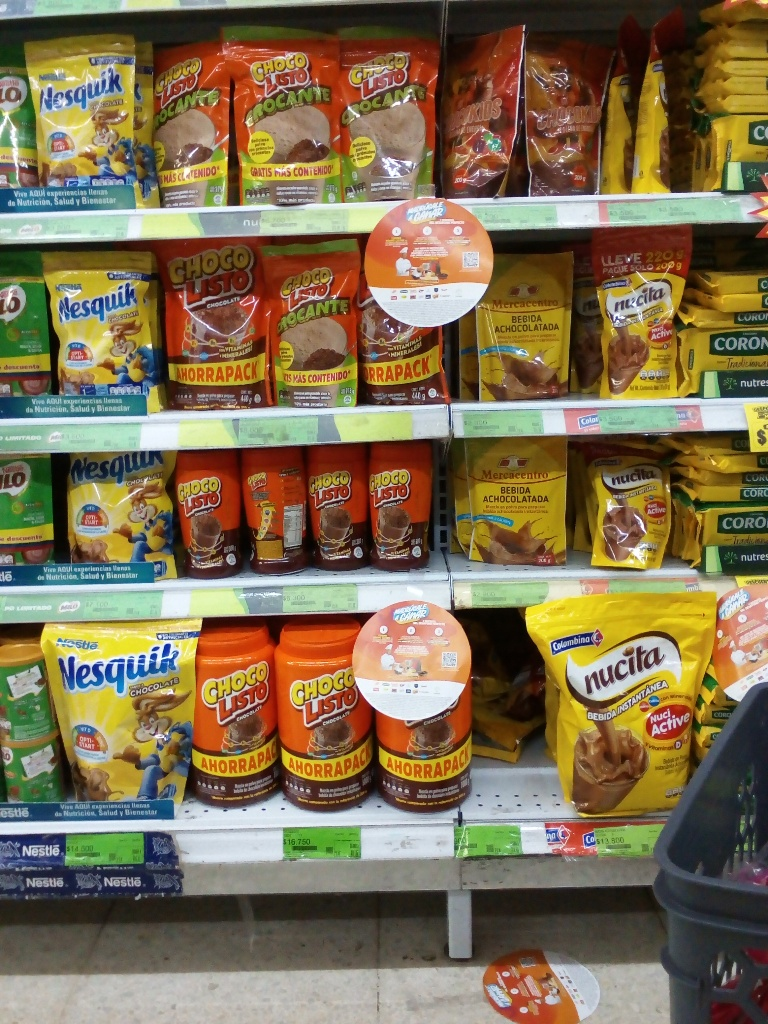COL0170103DYP44000: (158, 244, 272, 410)
COL0170103TRR00100: (186, 619, 276, 816)
COL0170203LAT20000: (0, 734, 68, 814)
